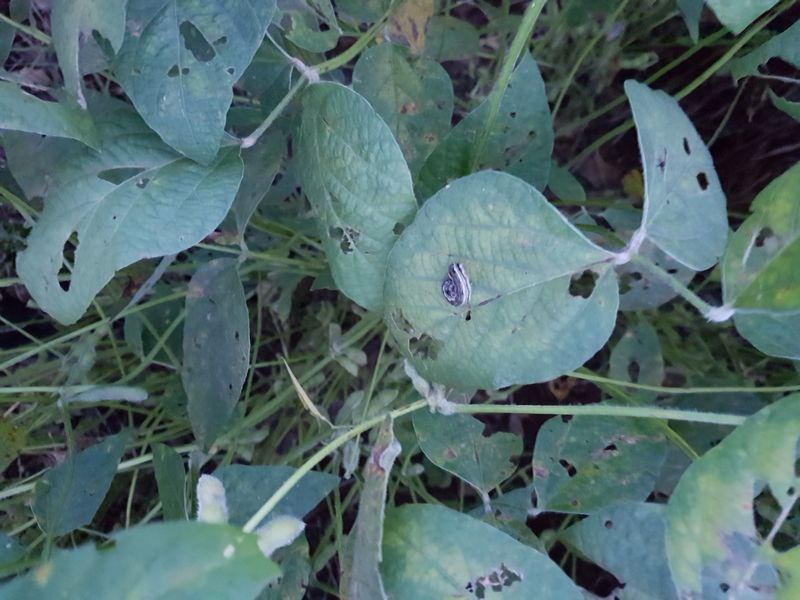Spodoptera_albula: (425, 254, 488, 319)
